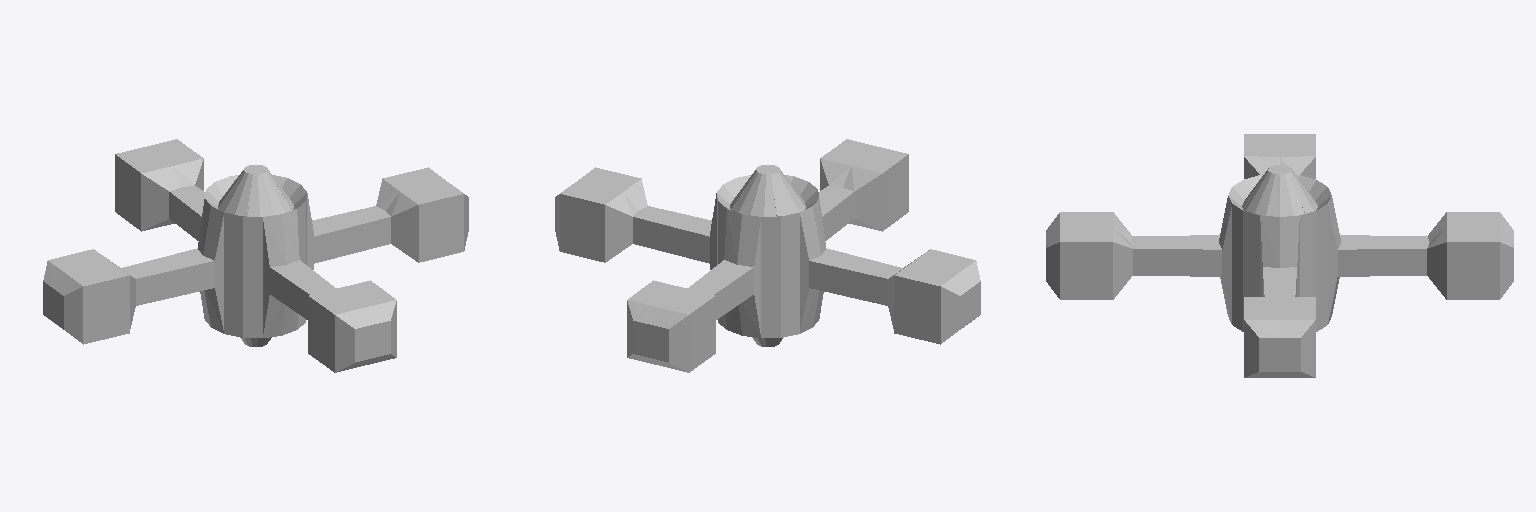
The model's file is turret_station.obj.
The picture shows the model from 3 angles: view 1: azimuth 30°, elevation 25°; view 2: azimuth 150°, elevation 25°; view 3: azimuth 270°, elevation 25°; orthographic projection.
Visible parts, largest first — view 1: Cylinder; view 2: Cylinder; view 3: Cylinder.
Part boxes in pixels (x1,y1,x2,y2): Cylinder: (43,139,468,372); Cylinder: (555,139,980,372); Cylinder: (1046,134,1513,377).
Size of the model in its own units: 9.02 by 3.68 by 9.02.